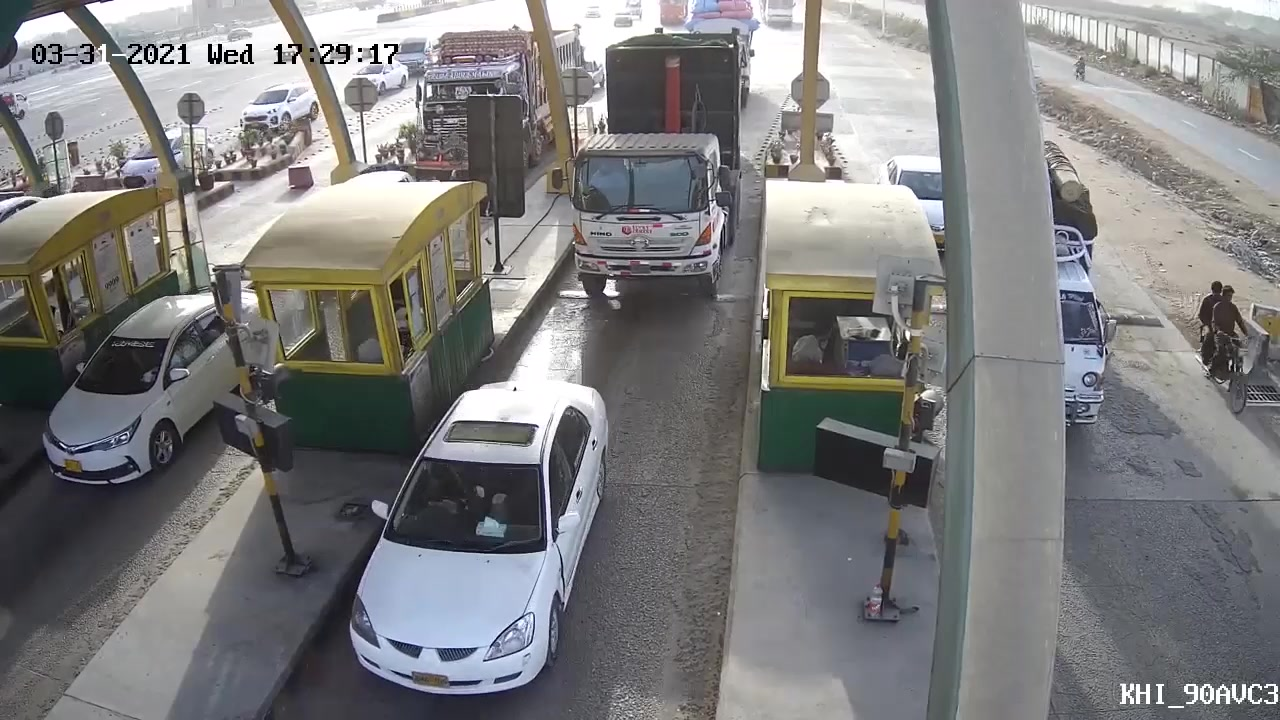F1: (331, 379, 624, 712)
